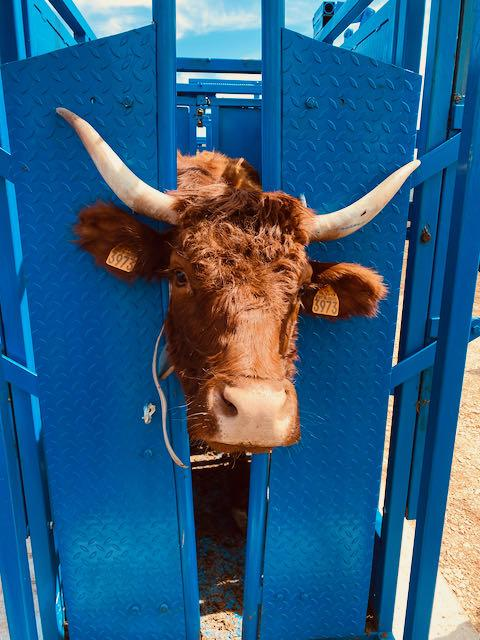muzzles: (187, 362, 303, 458)
